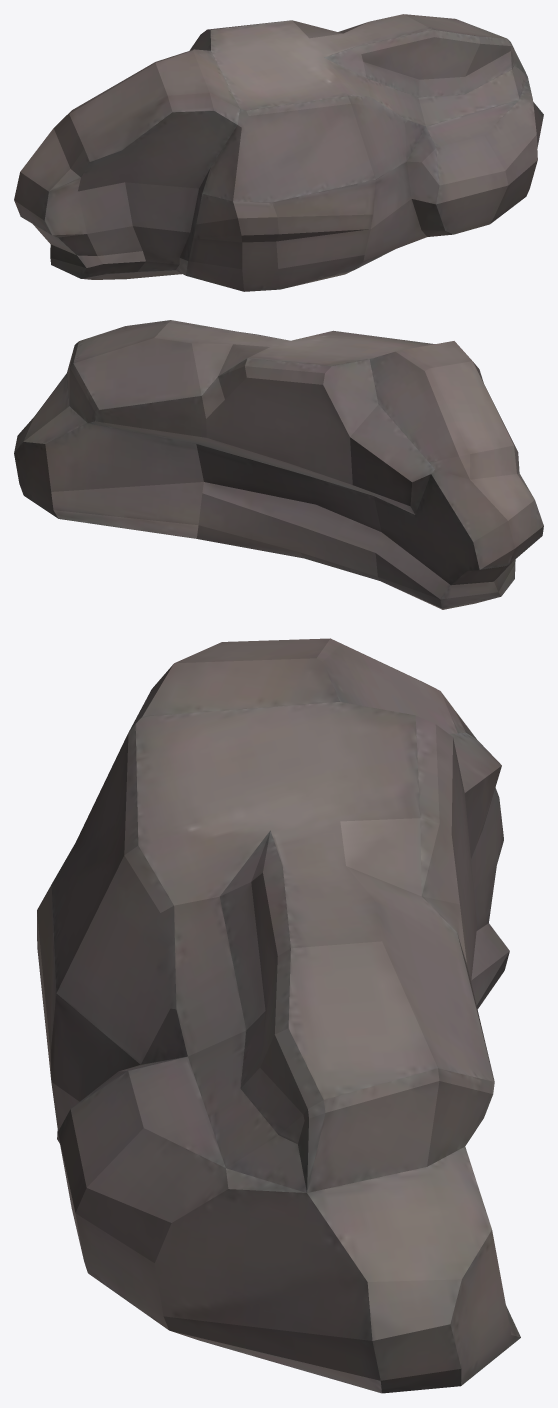
The picture shows the model from 3 angles, top to bottom: view 1: azimuth 30°, elevation 25°; view 2: azimuth 150°, elevation 25°; view 3: azimuth 270°, elevation 25°; orthographic projection. The views are drawn at different scales.
Parts seen in each view (by area): view 1: body0_model0_lod0_mesh0; view 2: body0_model0_lod0_mesh0; view 3: body0_model0_lod0_mesh0.
Part boxes in pixels (x1,y1,x2,y2): body0_model0_lod0_mesh0: (14, 14, 543, 291); body0_model0_lod0_mesh0: (14, 320, 543, 609); body0_model0_lod0_mesh0: (37, 638, 520, 1393).
Bounding box in the file's own units: 327 × 130 × 134.
Materials: 1 (1 with a texture image).
